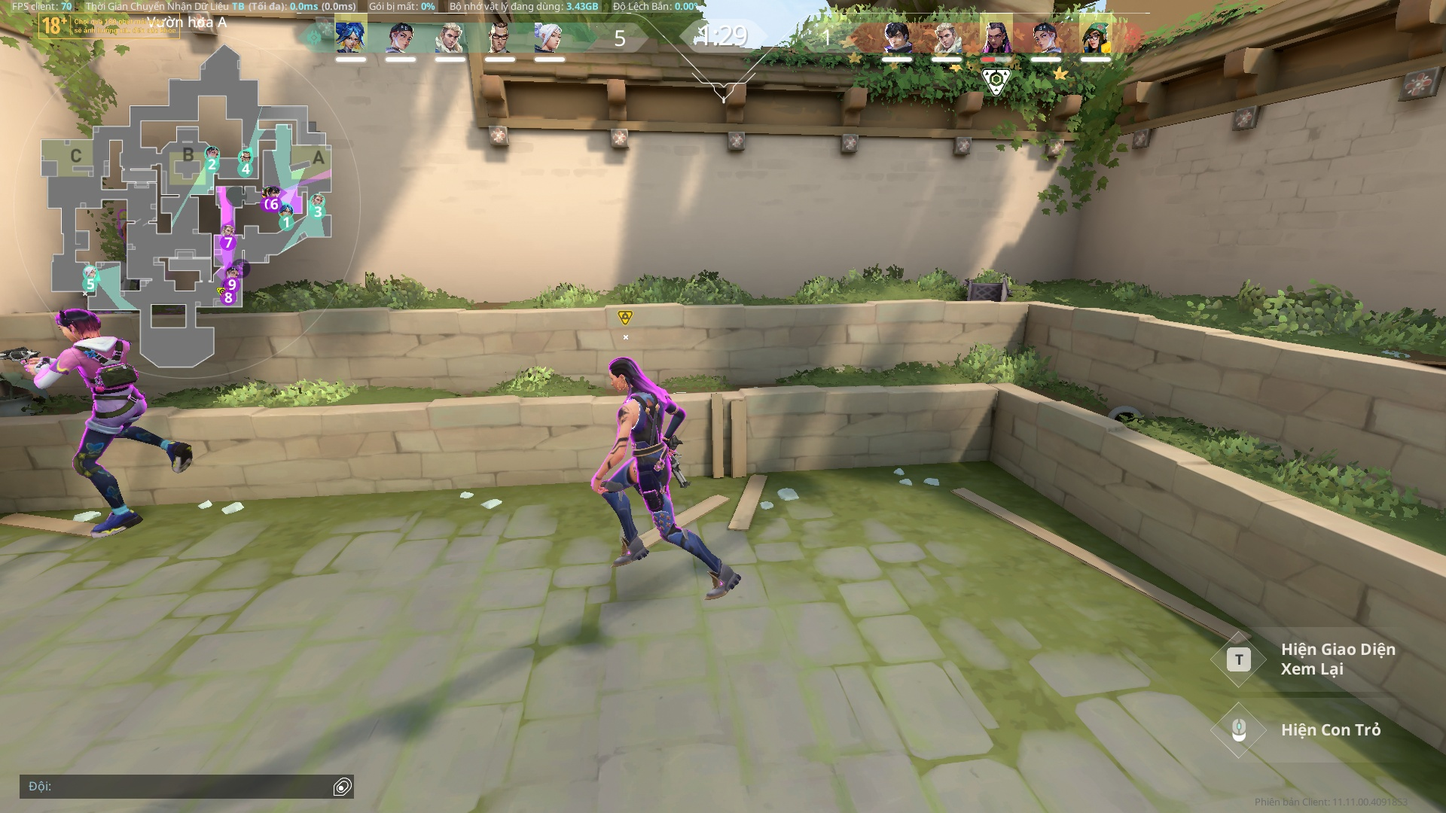body: (69, 335, 143, 387), (622, 387, 671, 447)
head: (54, 306, 107, 341), (606, 358, 644, 391)
